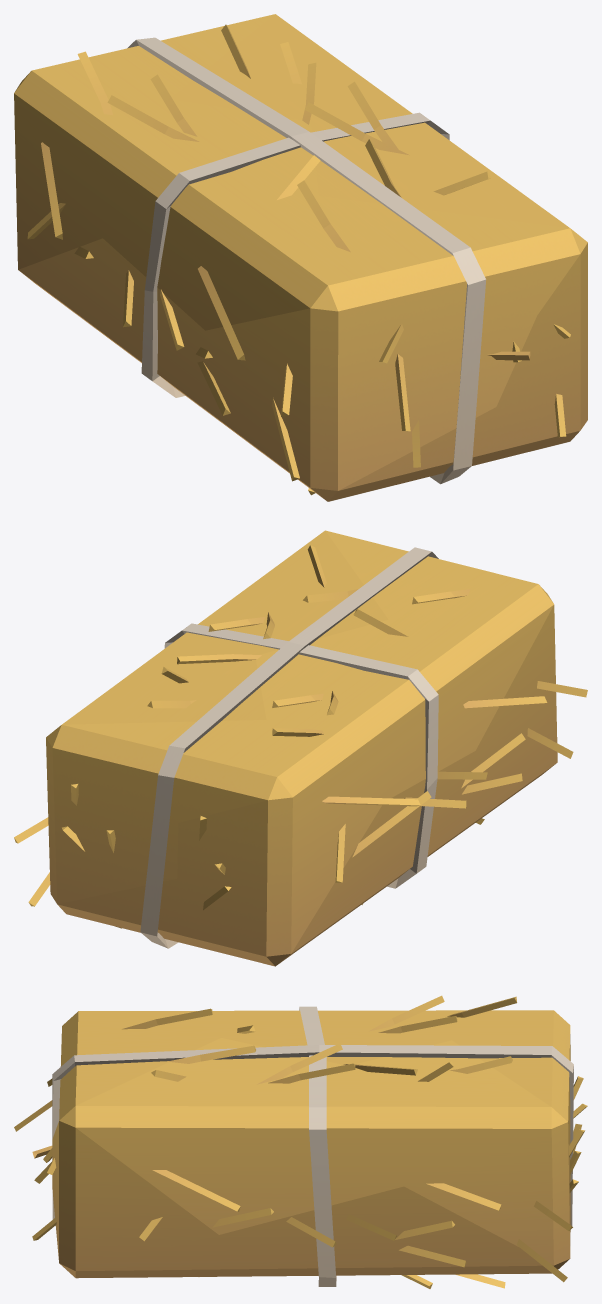
The model's file is HayBale.fbx.
The picture shows the model from 3 angles, top to bottom: view 1: azimuth 30°, elevation 25°; view 2: azimuth 150°, elevation 25°; view 3: azimuth 270°, elevation 25°; orthographic projection. The views are drawn at different scales.
Visible parts, largest first — view 1: HayBale_LOD0; view 2: HayBale_LOD0; view 3: HayBale_LOD0.
Part boxes in pixels (x1,y1,x2,y2): HayBale_LOD0: (14, 14, 587, 501); HayBale_LOD0: (14, 530, 587, 966); HayBale_LOD0: (14, 995, 587, 1288).
Size of what is drawn, in the model's own units: 1.35 by 0.9721 by 2.24.
Materials: 1 (1 with a texture image).
